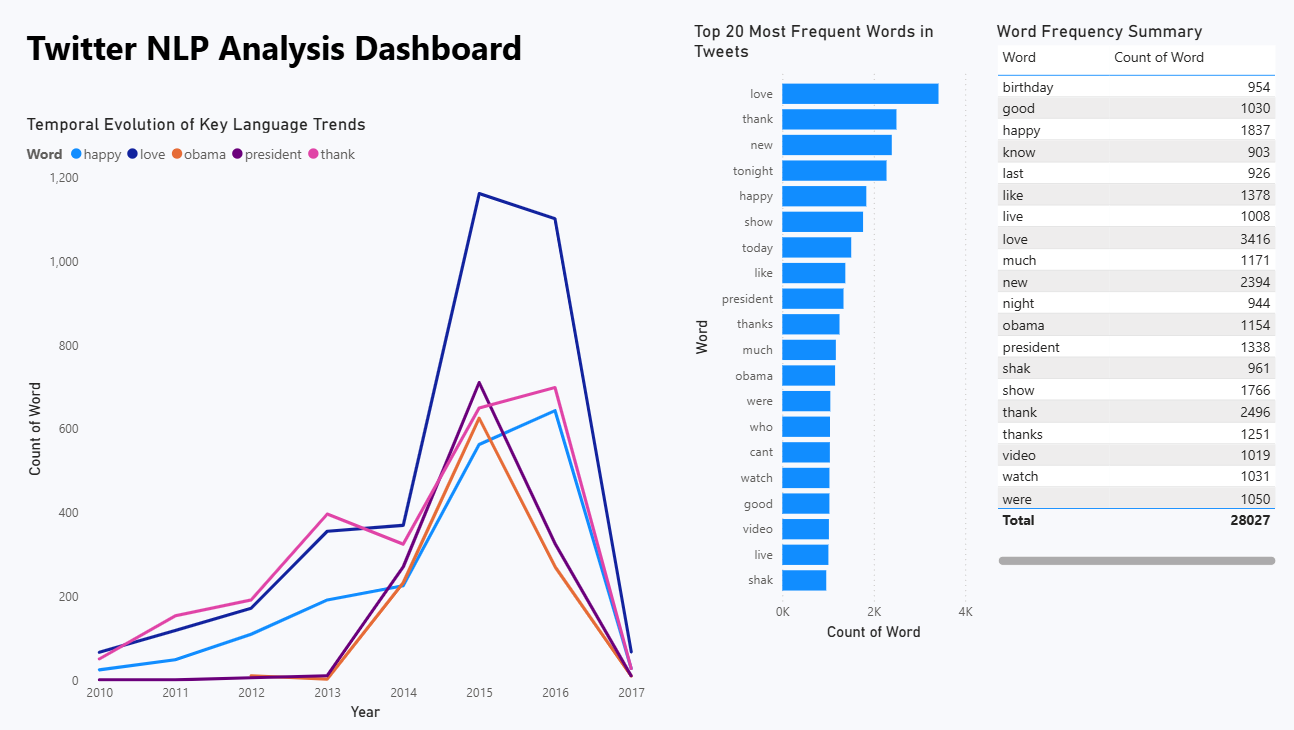

The dashboard page shown, as its layout file describes it:
{"tool":"powerbi","page":{"name":"Page 1","canvas":[1280,720],"ordinal":0},"visuals":[{"type":"clusteredBarChart","title":"Top 20 Most Frequent Words in Tweets","fields":{"Category":["Tweets_dataset.Word"],"Y":["Tweets_dataset.Word"]},"box":[676.5,26.1,279.9,605.1],"z":0},{"type":"lineChart","title":"Temporal Evolution of Key Language Trends","fields":{"Category":["Tweets_dataset.date_time.Variation.Date Hierarchy.Year"],"Y":["Tweets_dataset.Word"],"Series":["Tweets_dataset.Word"]},"box":[30.3,116.2,608.9,593.1],"z":1000},{"type":"tableEx","title":"Word Frequency Summary","fields":{"Values":["Tweets_dataset.Word","Tweets_dataset.Word"]},"box":[969.6,26.6,280.8,532.6],"z":2000},{"type":"textbox","box":[30.3,25.4,497.5,90.8],"z":2001}]}

Visuals, with their boxes in screenshot pixels (x1, y1, x2, y2), scaled from the page's 1280x720 canvas onto the 1294x730 screenshot:
"Top 20 Most Frequent Words in Tweets" clusteredBarChart: BBox(684, 26, 967, 640)
"Temporal Evolution of Key Language Trends" lineChart: BBox(31, 118, 646, 719)
"Word Frequency Summary" tableEx: BBox(980, 27, 1264, 567)
textbox: BBox(31, 26, 534, 118)
